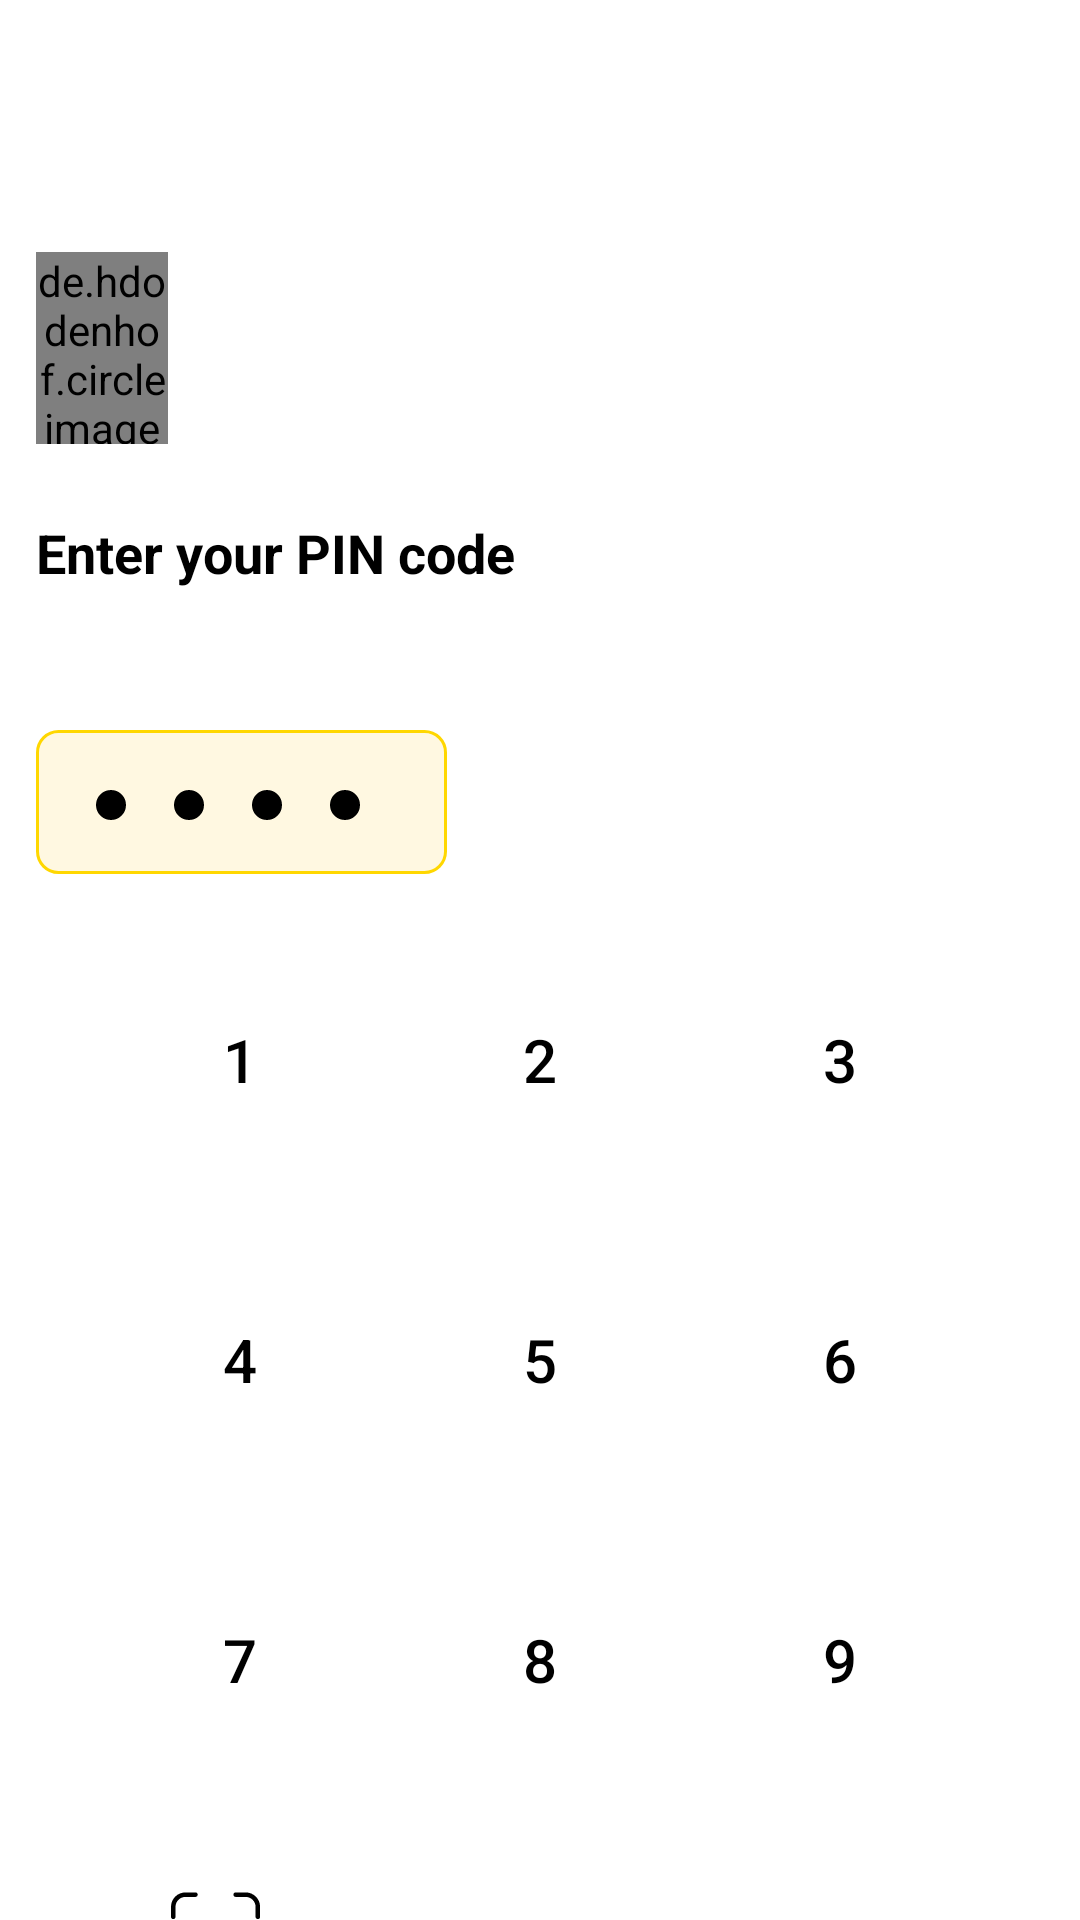

Screen size 1080 x 1920. Icon name, then its center in pixels as (x,y):
pin dot: (111,805), (189,805), (267,805), (345,805)
